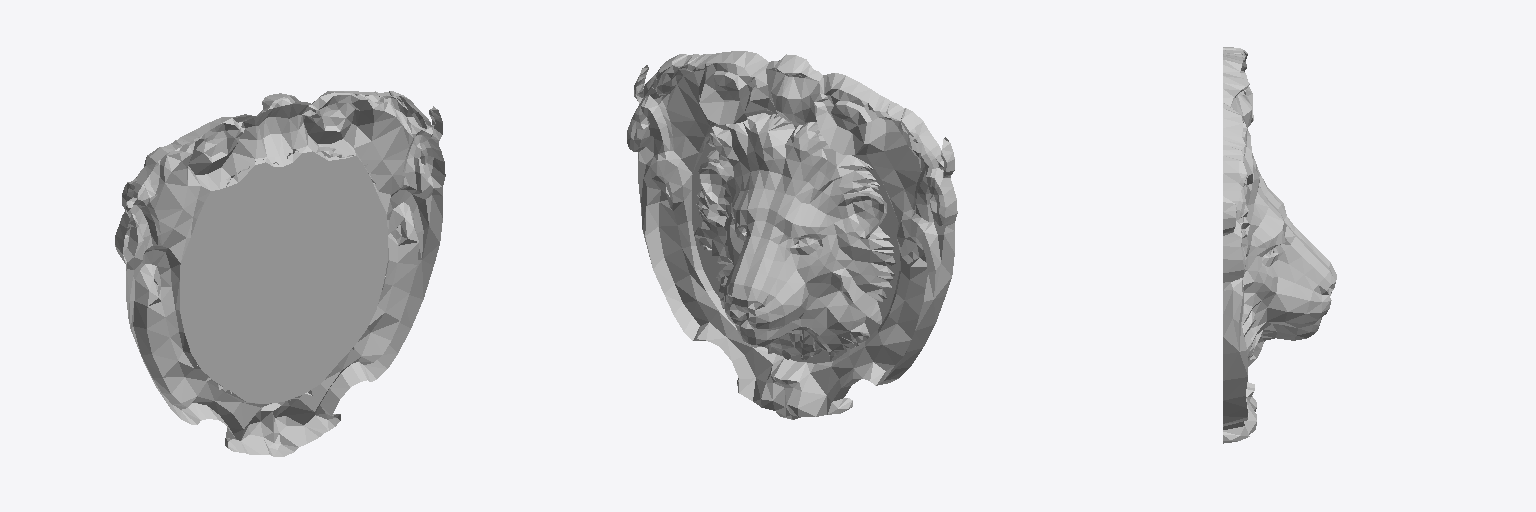
3 views of the same model, side by side, from view 1: azimuth 30°, elevation 25°; view 2: azimuth 150°, elevation 25°; view 3: azimuth 270°, elevation 25° (orthographic).
Visible parts, largest first — view 1: sponza_377; view 2: sponza_377; view 3: sponza_377.
Part boxes in pixels (bbox=[...]): sponza_377: bbox=[115, 91, 445, 456]; sponza_377: bbox=[627, 51, 957, 419]; sponza_377: bbox=[1223, 47, 1336, 443].
Bounding box in the file's own units: 1.89 × 2.02 × 0.5766.